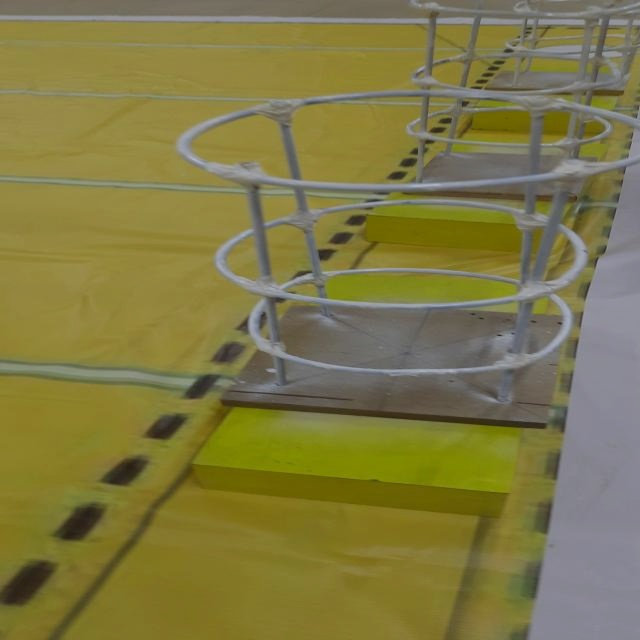silo: (183, 89, 640, 432), (375, 3, 640, 196)
